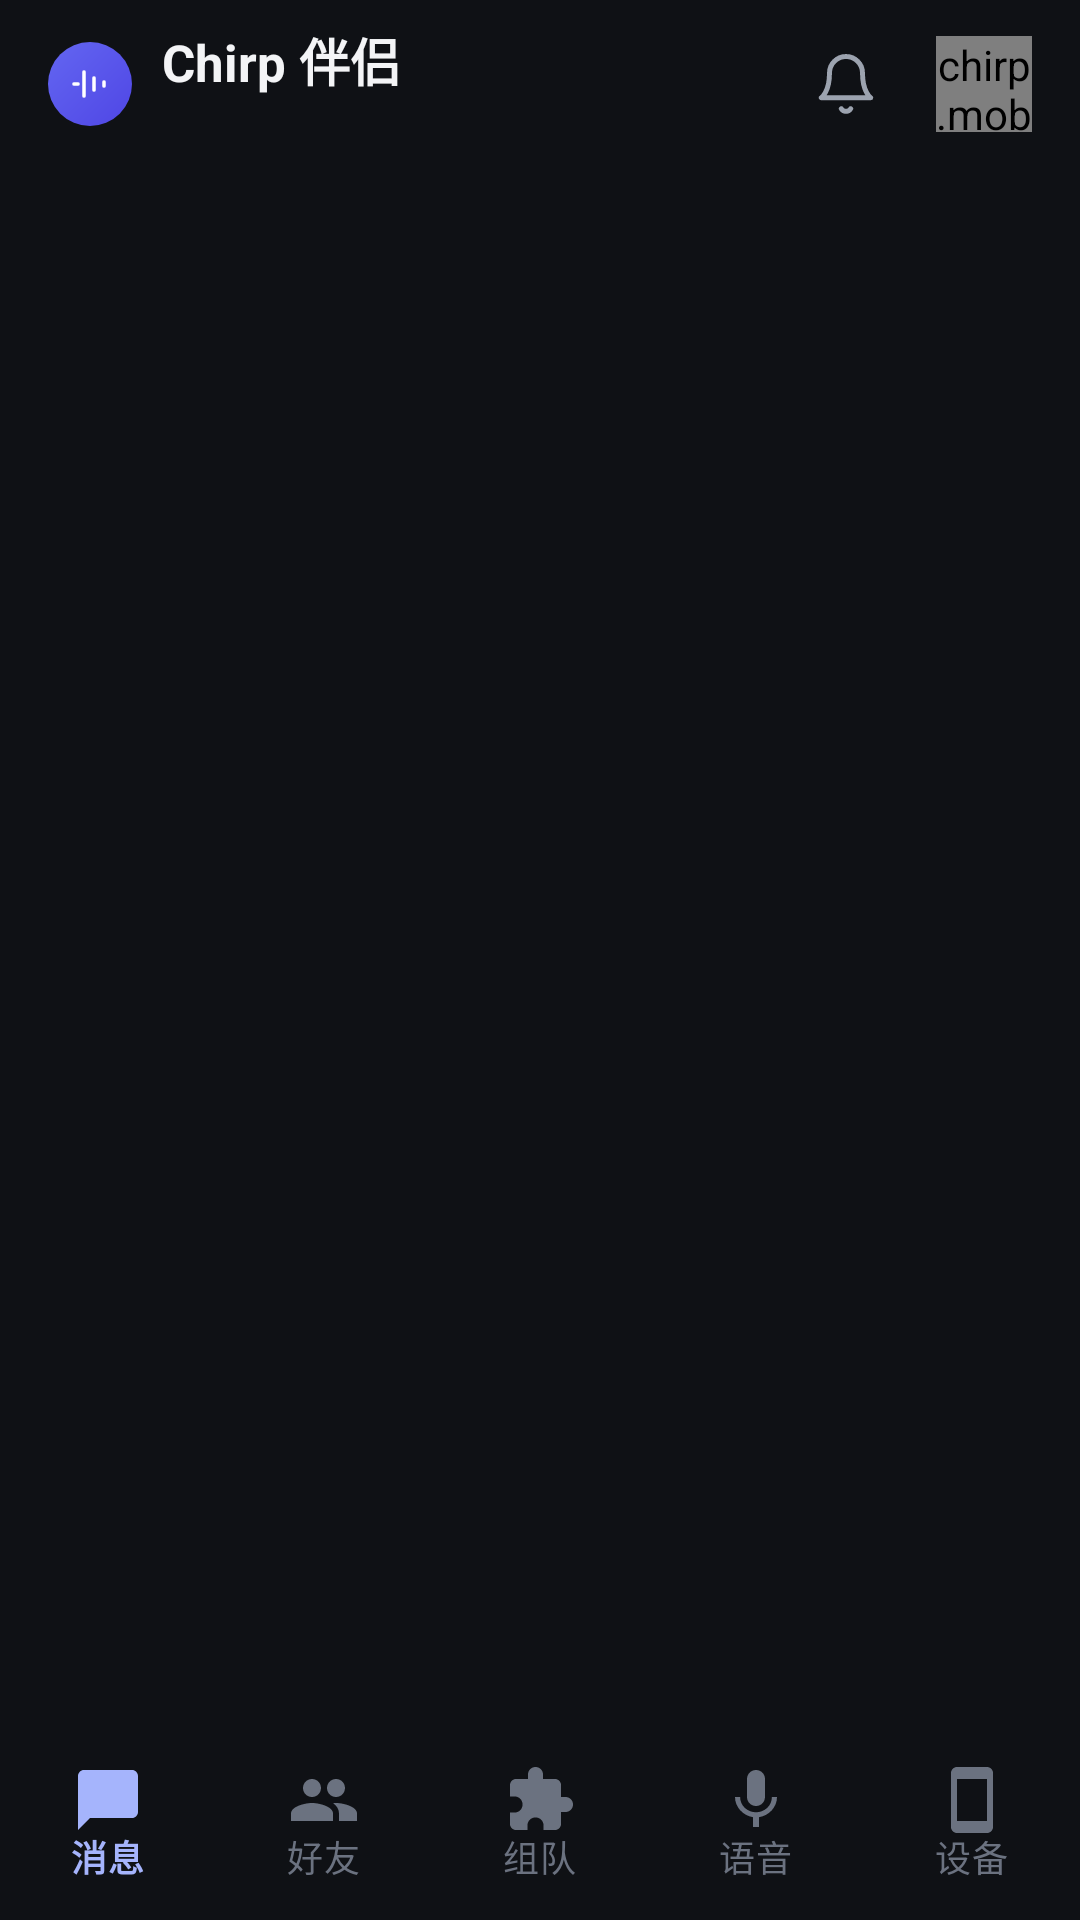

Icon click points for this 1080*1920 phone screenshot, format point (x, y):
bell: point (846, 84)
wave: point (89, 84)
